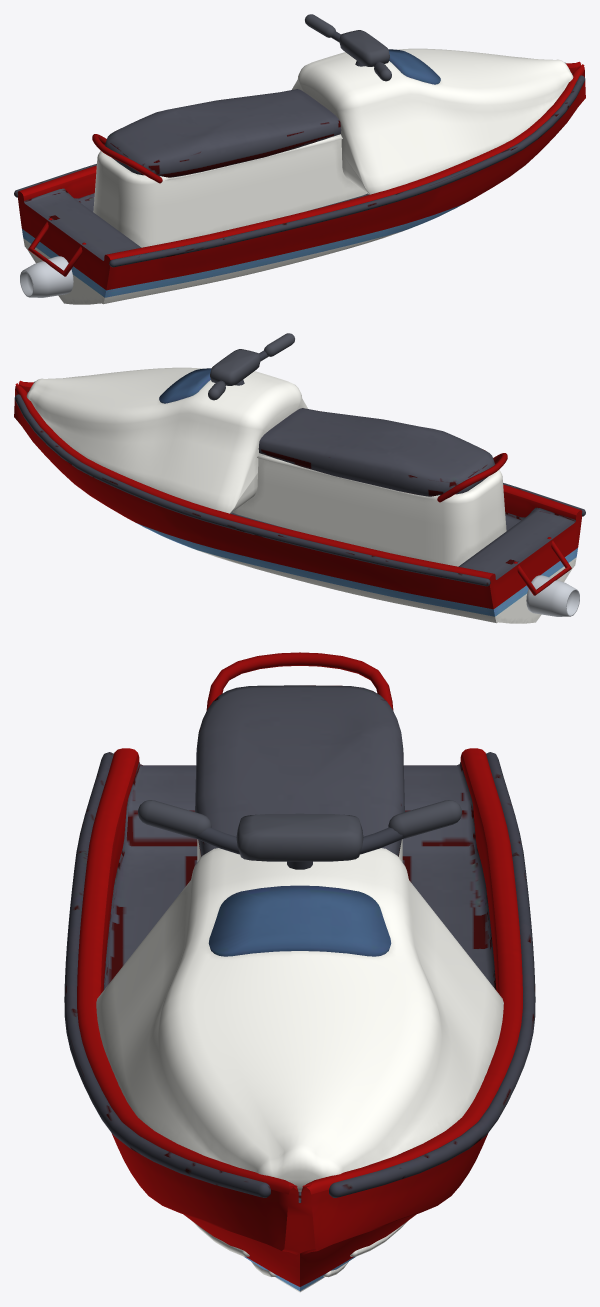
Rendered from sea-doo-rxtx-325.glb.
3 views of the same model, one above another, from view 1: azimuth 30°, elevation 25°; view 2: azimuth 150°, elevation 25°; view 3: azimuth 270°, elevation 25° (orthographic). The views are drawn at different scales.
Parts seen in each view (by area): view 1: jet-ski_body, jet-ski_handlebar, jet-ski_jet_nozzle; view 2: jet-ski_body, jet-ski_handlebar, jet-ski_jet_nozzle; view 3: jet-ski_body, jet-ski_handlebar.
Part boxes in pixels (bbox=[...]): jet-ski_body: bbox=[14, 48, 585, 304]; jet-ski_handlebar: bbox=[305, 14, 391, 81]; jet-ski_jet_nozzle: bbox=[20, 256, 73, 297]; jet-ski_body: bbox=[14, 367, 585, 623]; jet-ski_handlebar: bbox=[208, 333, 294, 400]; jet-ski_jet_nozzle: bbox=[526, 575, 579, 616]; jet-ski_body: bbox=[64, 652, 535, 1292]; jet-ski_handlebar: bbox=[138, 800, 461, 869].
Bounding box in the file's own units: 3.58 × 1.21 × 1.32.
Materials: 4 (1 with a texture image).
